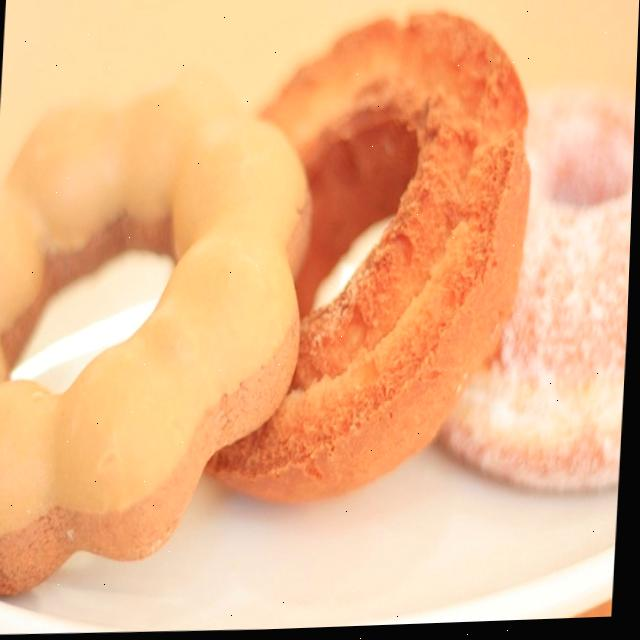炸货点心: (0, 0, 640, 594)
